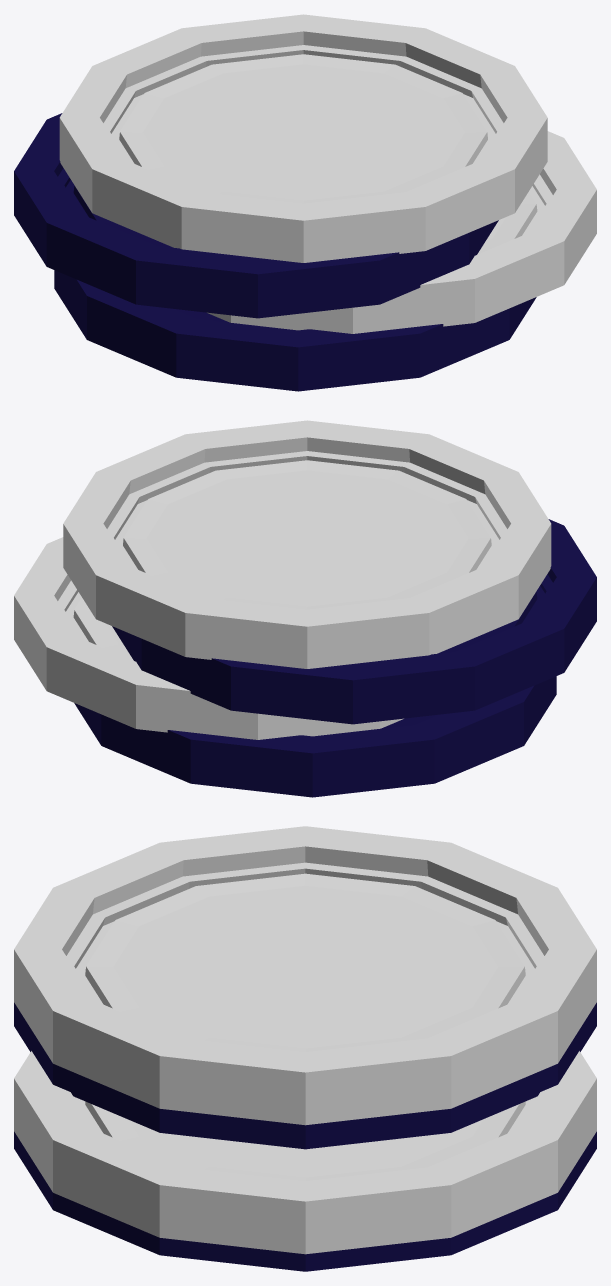
File: UI_SM_Poker_Chip_Stack.fbx
3 views of the same model, one above another, from view 1: azimuth 30°, elevation 25°; view 2: azimuth 150°, elevation 25°; view 3: azimuth 270°, elevation 25° (orthographic). The views are drawn at different scales.
Visible parts, largest first — view 1: UI_SM_Poker_Stack; view 2: UI_SM_Poker_Stack; view 3: UI_SM_Poker_Stack.
Boxes of the visible parts, x1,y1,x2,y2 form: UI_SM_Poker_Stack: (14,14,596,391); UI_SM_Poker_Stack: (14,420,596,797); UI_SM_Poker_Stack: (14,826,596,1271).
Size of the model in its own units: 245 by 200 by 76.62.
